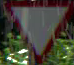Give way: (4, 1, 73, 61)
